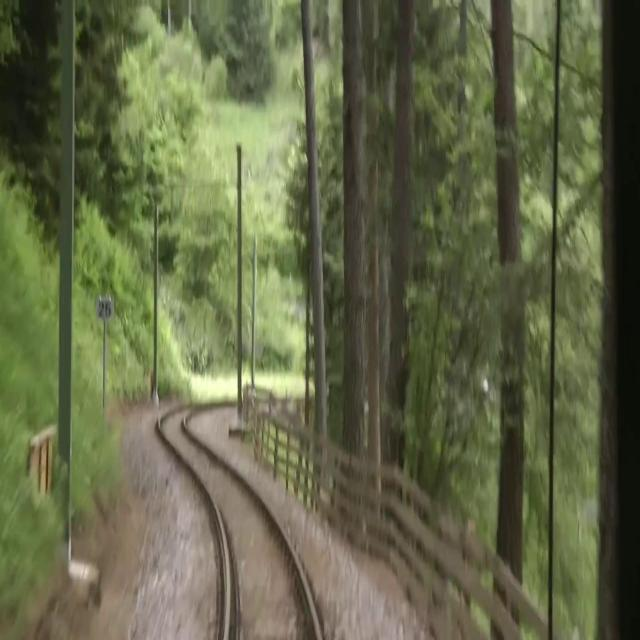rail-track: (162, 409, 316, 639)
